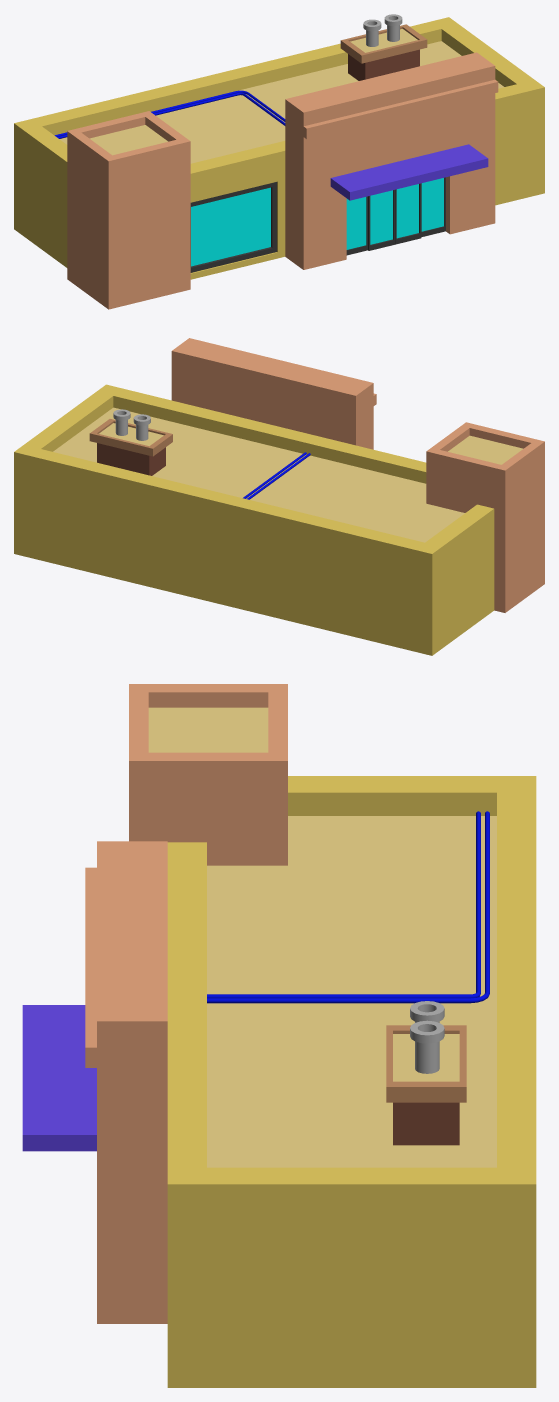
The model's file is building_11.fbx.
The picture shows the model from 3 angles, top to bottom: view 1: azimuth 30°, elevation 25°; view 2: azimuth 150°, elevation 25°; view 3: azimuth 270°, elevation 25°; orthographic projection. The views are drawn at different scales.
Parts seen in each view (by area): view 1: Vert.024; view 2: Vert.024; view 3: Vert.024.
Boxes of the visible parts, x1,y1,x2,y2 form: Vert.024: [14, 14, 544, 309]; Vert.024: [14, 338, 544, 655]; Vert.024: [22, 684, 536, 1387].
Bounding box in the file's own units: 1975 × 666 × 1024.
